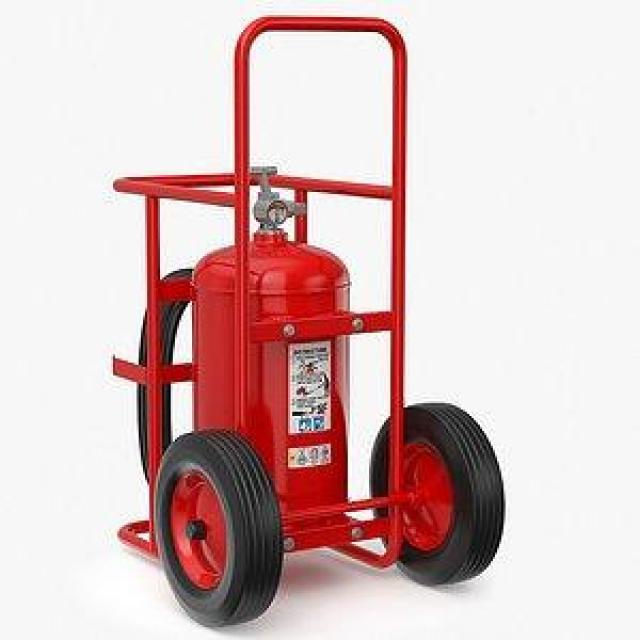fire_extinguisher: (129, 151, 360, 562)
